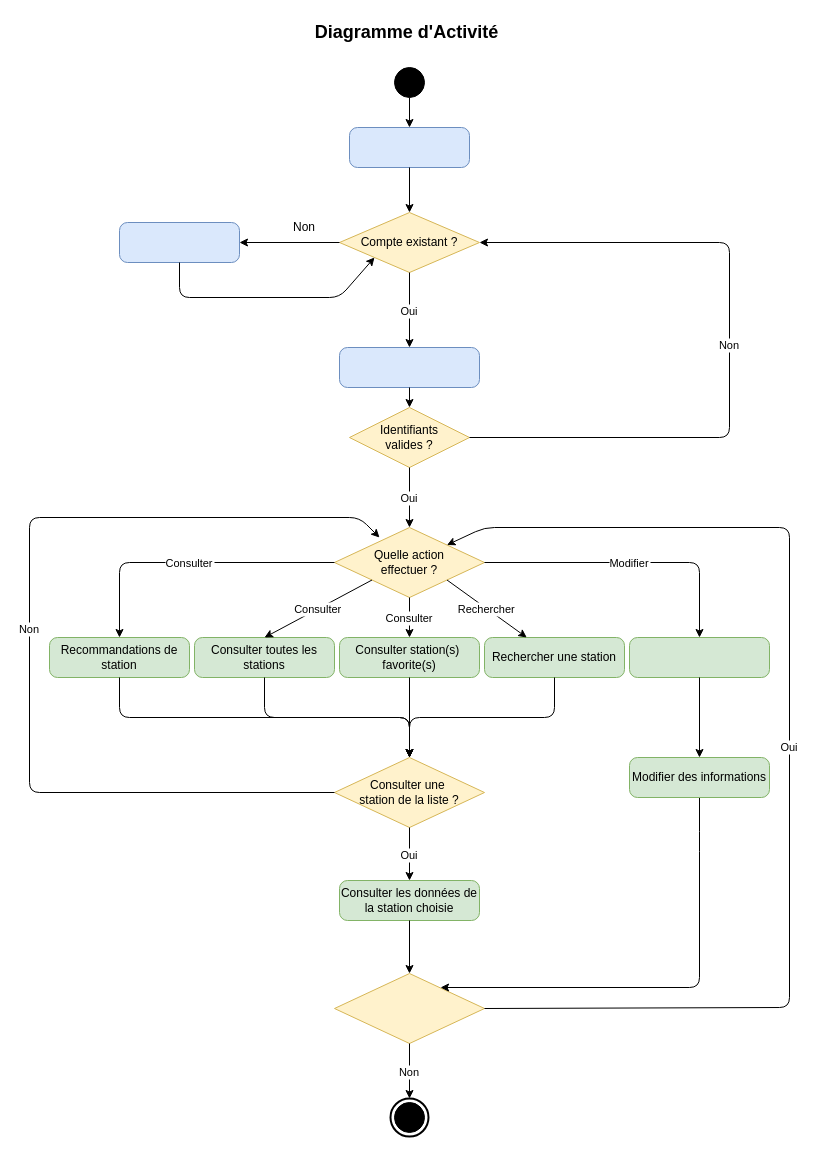
Image size: 816x1154. Some labels were removed from this diagram. Each missing label, with the box of its shape:
Créer un compte: (118, 222, 240, 262)
Gérer comptes utilisateurs (si admin): (628, 636, 770, 678)
Ouvrir l'application: (348, 126, 470, 168)
Poursuivre la navigation ?: (334, 972, 484, 1044)
Saisir identifiants (Connexion): (338, 346, 480, 388)
